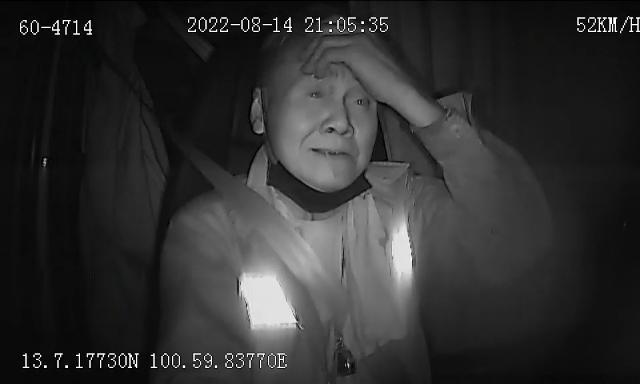SafeDriving: (298, 81, 331, 106), (344, 87, 374, 114)
Seatbelt: (177, 142, 343, 304)
